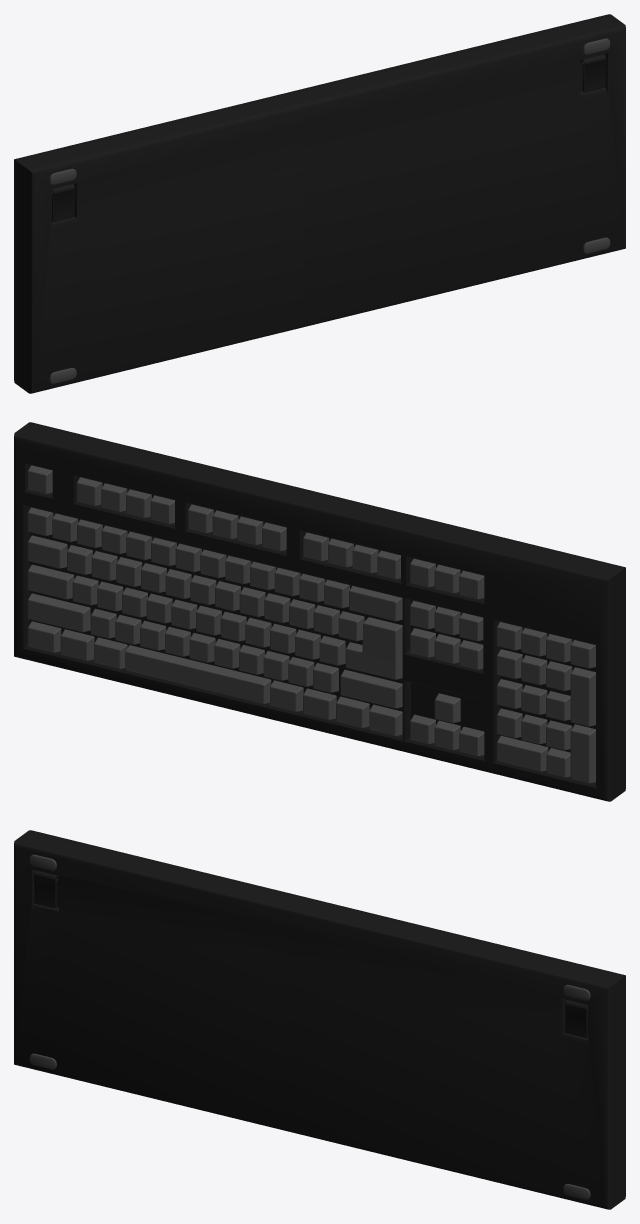
File: keyboard.glb
3 views of the same model, one above another, from view 1: azimuth 30°, elevation 25°; view 2: azimuth 150°, elevation 25°; view 3: azimuth 330°, elevation 25° (orthographic).
Parts seen in each view (by area): view 1: Cube.115, Cylinder.091; view 2: Cube.118, Cube.115; view 3: Cube.115, Cylinder.091.
Boxes of the visible parts, bbox=[...] form: Cube.115: bbox=[14, 14, 625, 393]; Cylinder.091: bbox=[51, 54, 606, 222]; Cube.118: bbox=[27, 465, 595, 783]; Cube.115: bbox=[14, 422, 625, 801]; Cube.115: bbox=[14, 830, 625, 1209]; Cylinder.091: bbox=[33, 870, 588, 1038].
Size of the model in its own units: 0.7798 by 0.2791 by 0.0527.
1 material, 1 textured.
